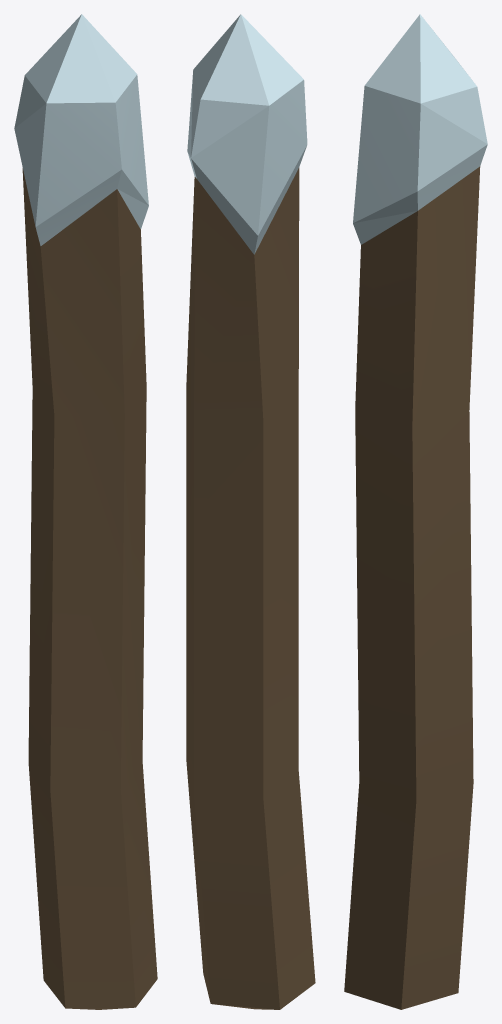
File: Pua03.glb
3 views of the same model, side by side, from view 1: azimuth 90°, elevation 25°; view 2: azimuth 150°, elevation 25°; view 3: azimuth 270°, elevation 25° (orthographic).
Parts seen in each view (by area): view 1: SM_Prop_Wood_Spike_03_Snow; view 2: SM_Prop_Wood_Spike_03_Snow; view 3: SM_Prop_Wood_Spike_03_Snow.
Boxes of the visible parts, x1=… form: SM_Prop_Wood_Spike_03_Snow: x1=14, y1=14, x2=157, y2=1009; SM_Prop_Wood_Spike_03_Snow: x1=186, y1=14, x2=315, y2=1009; SM_Prop_Wood_Spike_03_Snow: x1=344, y1=14, x2=487, y2=1009.
Bounding box in the file's own units: 0.1348 × 1.22 × 0.1592.
1 material, 1 textured.
